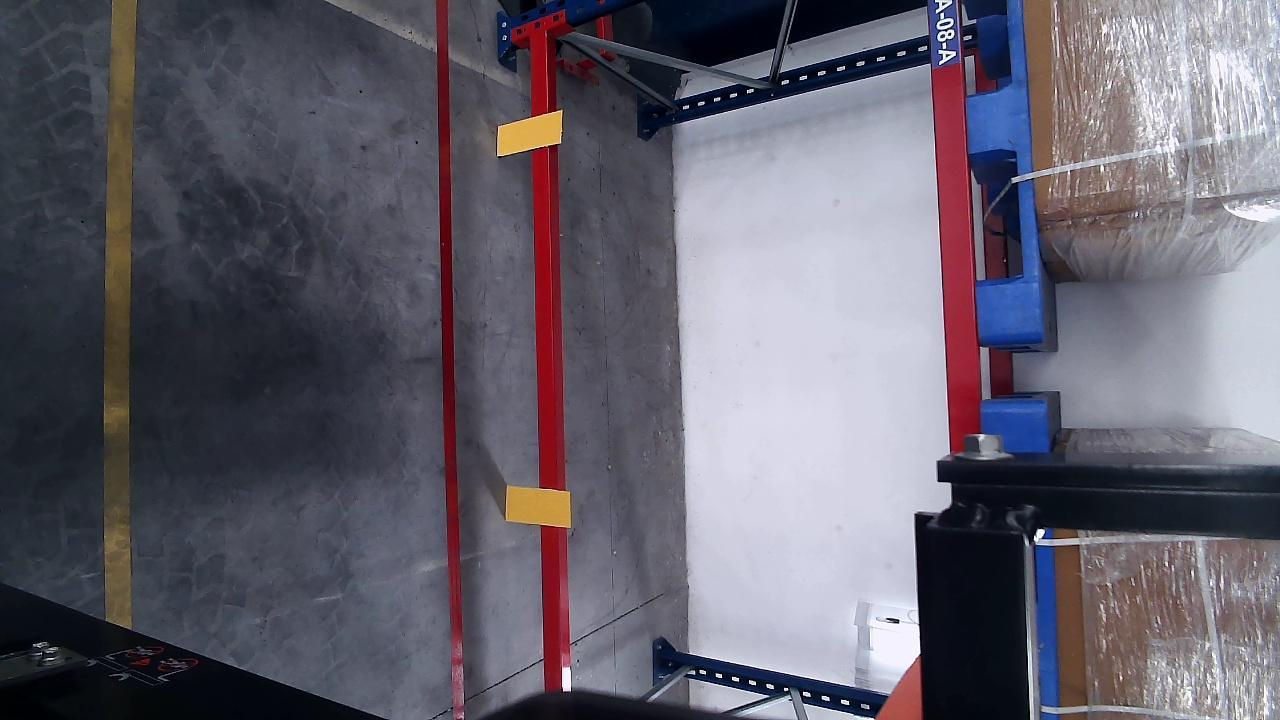h_rack: (528, 33, 568, 689), (926, 0, 980, 446)
orange_strip: (496, 110, 562, 157), (505, 485, 572, 528)
red_line: (436, 2, 469, 720)
small_pallet: (958, 1, 1043, 338)
yellow_line: (102, 0, 140, 630)
